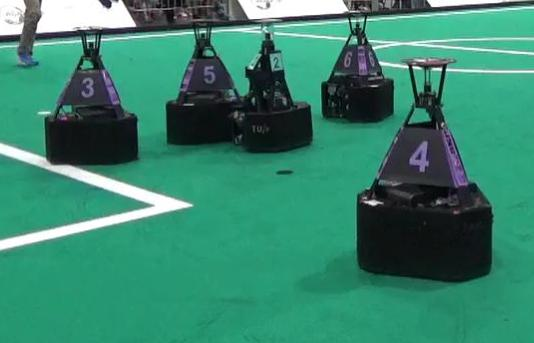robot: (352, 55, 498, 285), (42, 25, 142, 164), (162, 19, 251, 148), (231, 18, 315, 154), (317, 11, 397, 123)
